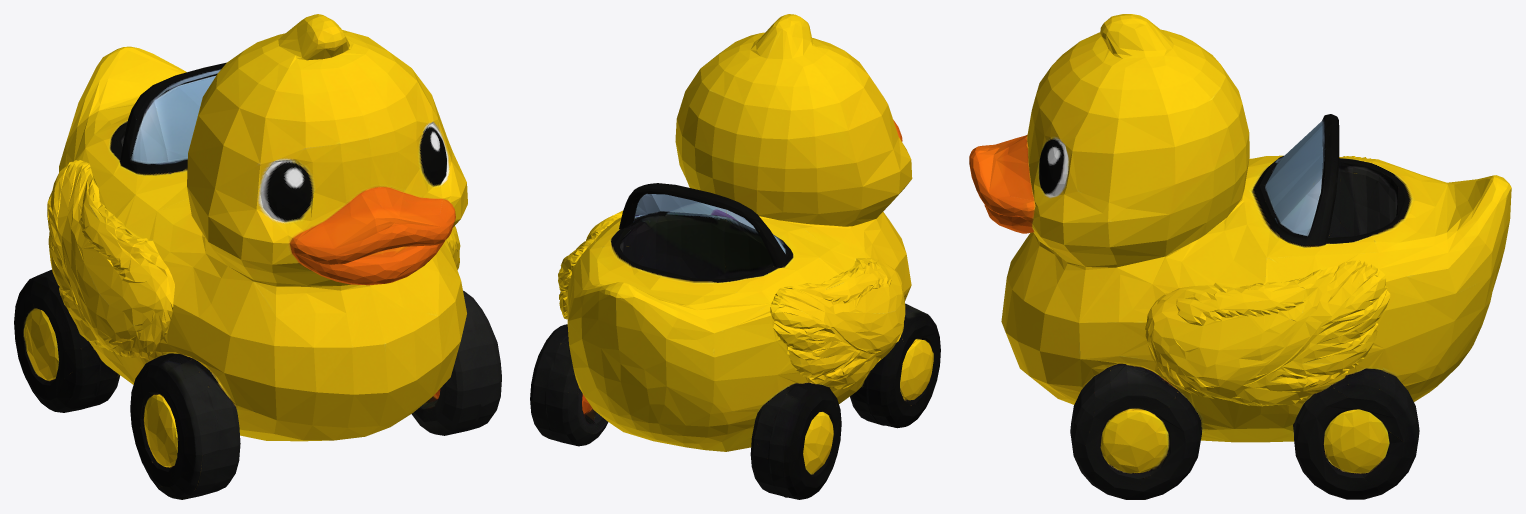
File: rubber_ducky.glb
3 views of the same model, side by side, from view 1: azimuth 30°, elevation 25°; view 2: azimuth 150°, elevation 25°; view 3: azimuth 270°, elevation 25° (orthographic). The views are drawn at different scales.
Parts seen in each view (by area): view 1: geometry_0; view 2: geometry_0; view 3: geometry_0.
Boxes of the visible parts, left/top/right/bottom form: geometry_0: left=14, top=14, right=501, bottom=499; geometry_0: left=530, top=14, right=940, bottom=499; geometry_0: left=969, top=14, right=1511, bottom=499.
Size of the model in its own units: 1.33 by 1.61 by 1.9.
Materials: 1 (1 with a texture image).
